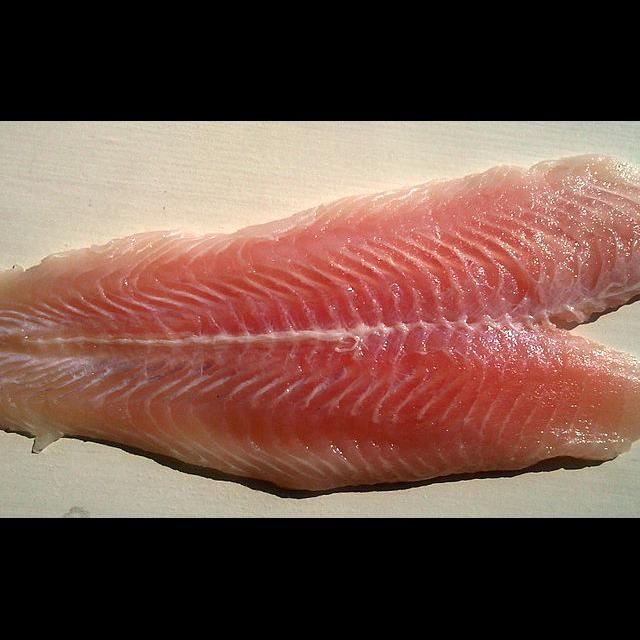fish: (0, 148, 640, 501)
